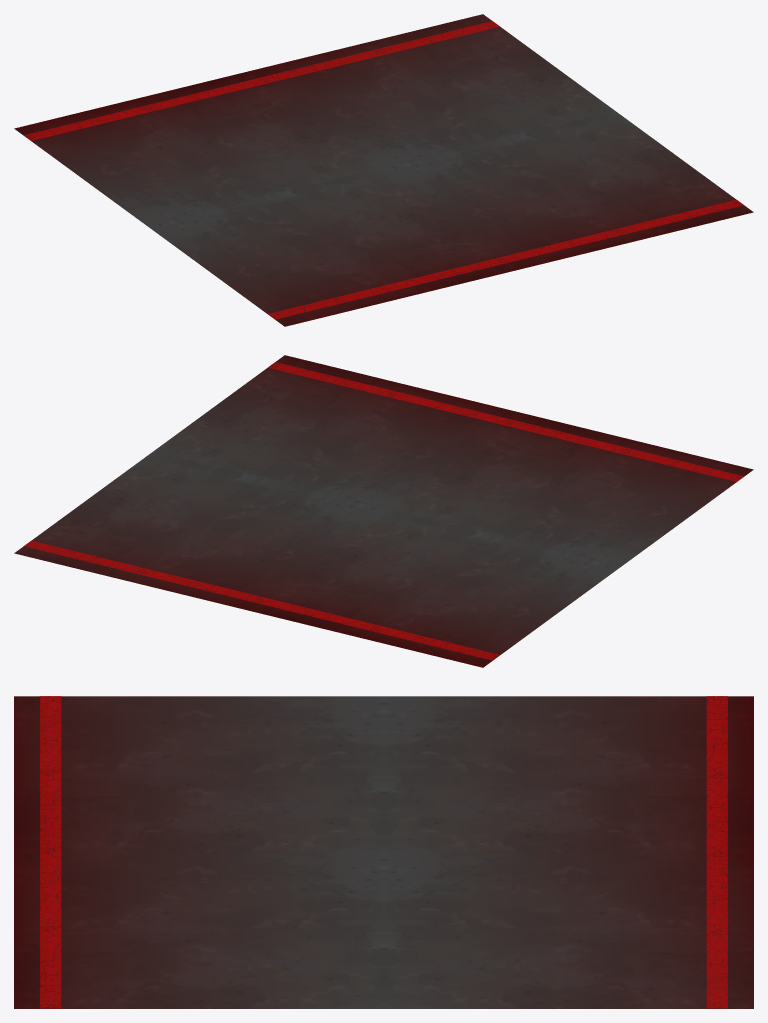
File: Street_2Lane_noSidewalk.glb
3 renders of one model, top to bottom at view 1: azimuth 30°, elevation 25°; view 2: azimuth 150°, elevation 25°; view 3: azimuth 270°, elevation 25°, orthographic. The views are drawn at different scales.
Parts seen in each view (by area): view 1: Street_2Lane_noSidewalk; view 2: Street_2Lane_noSidewalk; view 3: Street_2Lane_noSidewalk.
Boxes of the visible parts, <box> form: Street_2Lane_noSidewalk: <box>14,14,753,326</box>; Street_2Lane_noSidewalk: <box>14,355,753,667</box>; Street_2Lane_noSidewalk: <box>14,696,753,1008</box>.
Bounding box in the file's own units: 6 × 0.0022 × 6.
Materials: 2 (2 with a texture image).
